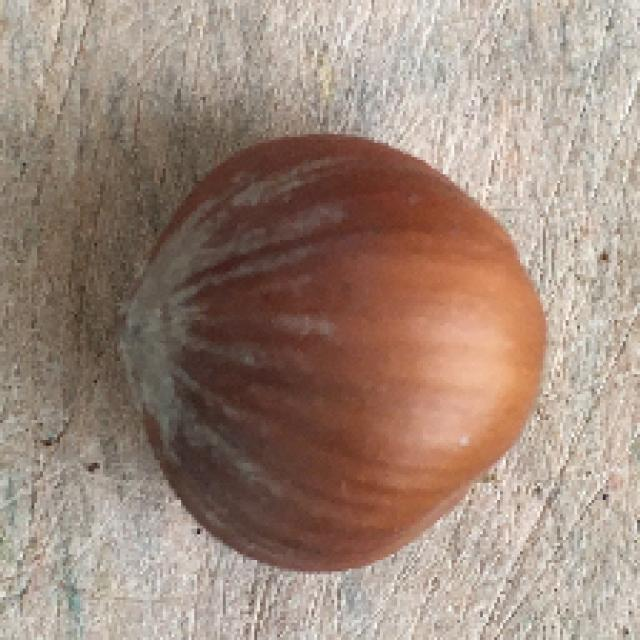qualityHazelnut: (123, 126, 554, 584)
